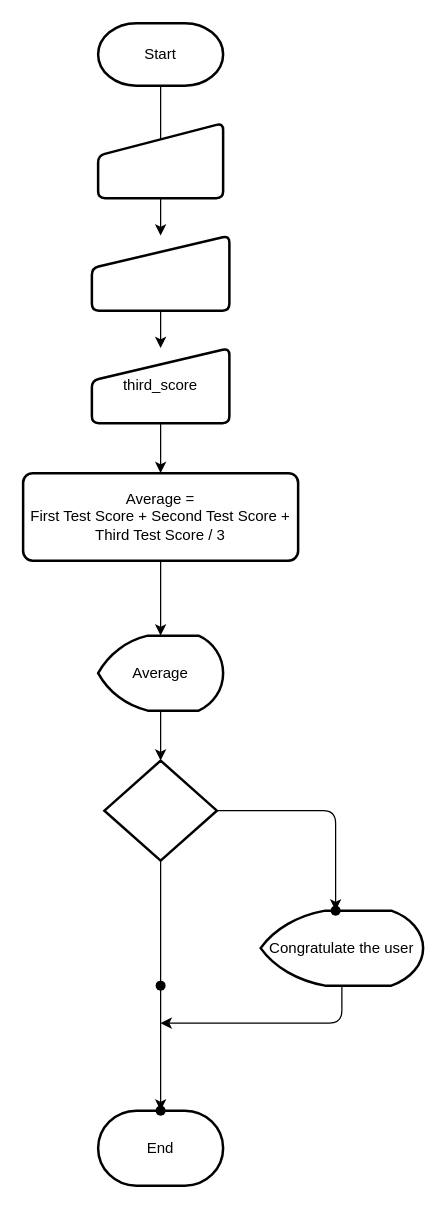
Some shapes in this 445 by 1208 pixel diagram are drawn without their labels. The box of each missing label's shape, as (x1, y1, x2, y2) in pixels:
Average > 95: (102, 759, 218, 861)
first_score: (96, 121, 224, 199)
second_score: (90, 234, 230, 311)
